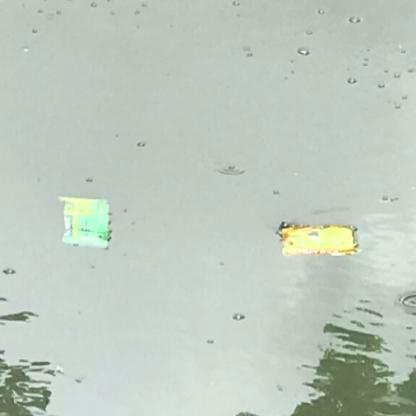Trash: (275, 221, 361, 262), (58, 193, 113, 250)
